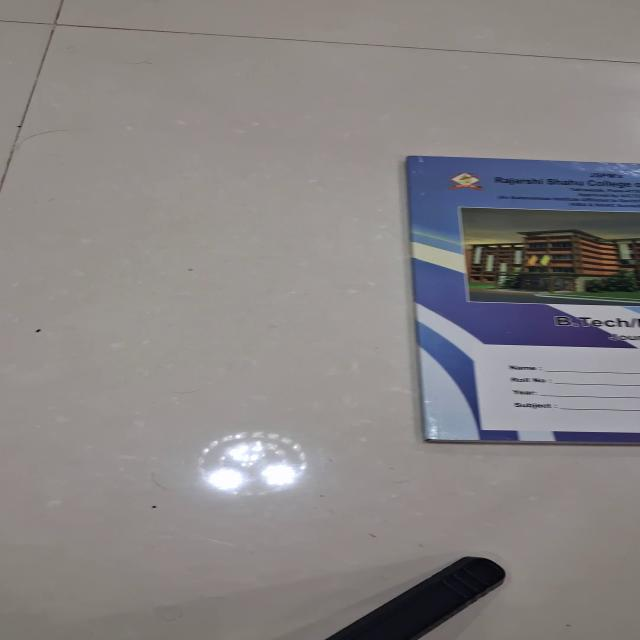paper: (405, 155, 639, 444)
